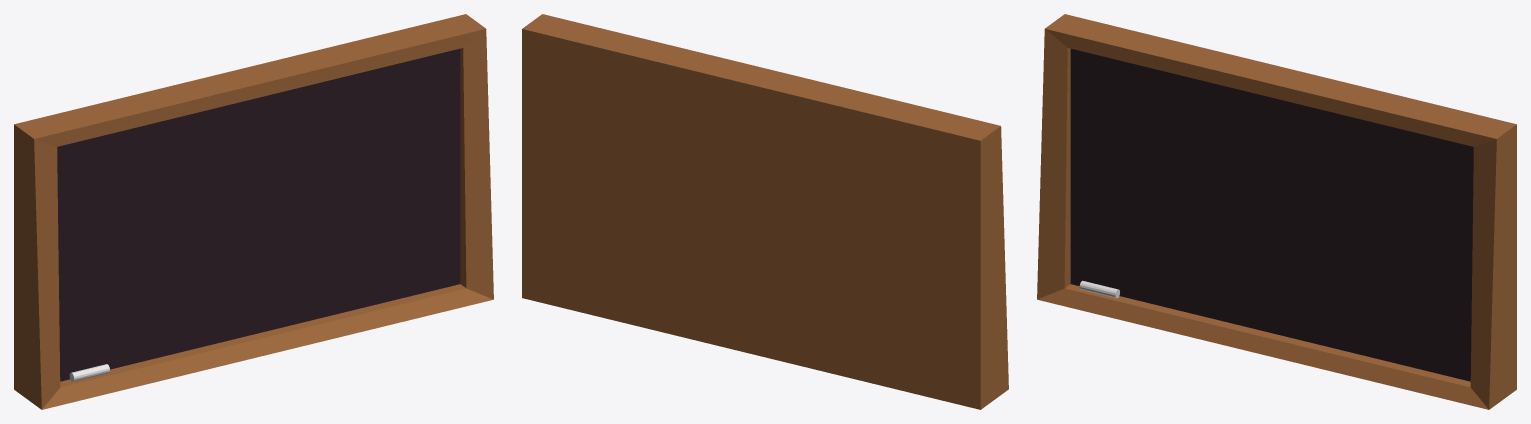
File: quadronegro.fbx
The picture shows the model from 3 angles, left to right: view 1: azimuth 30°, elevation 25°; view 2: azimuth 150°, elevation 25°; view 3: azimuth 330°, elevation 25°; orthographic projection.
Visible parts, largest first — view 1: Cube; view 2: Cube; view 3: Cube.
Boxes of the visible parts, <box> form: Cube: <box>14,14,493,409</box>; Cube: <box>522,14,1008,409</box>; Cube: <box>1037,14,1516,409</box>.
Size of the model in its own units: 1560 by 875 by 166.
